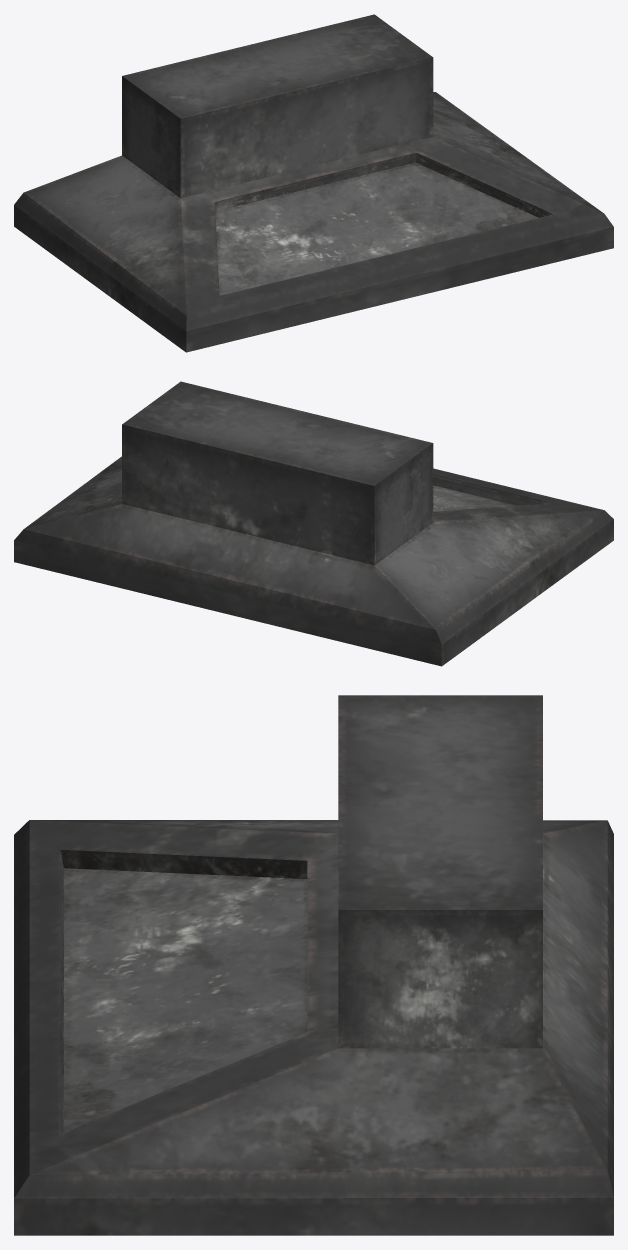
Rendered from tombs_07.fbx.
The picture shows the model from 3 angles, top to bottom: view 1: azimuth 30°, elevation 25°; view 2: azimuth 150°, elevation 25°; view 3: azimuth 270°, elevation 25°; orthographic projection. The views are drawn at different scales.
Visible parts, largest first — view 1: tombs_07; view 2: tombs_07; view 3: tombs_07.
Boxes of the visible parts, left/top/right/bottom form: tombs_07: left=14, top=14, right=613, bottom=352; tombs_07: left=14, top=381, right=613, bottom=666; tombs_07: left=14, top=695, right=613, bottom=1235.
Bounding box in the file's own units: 0.1883 × 0.0606 × 0.1312.
1 material, 1 textured.
